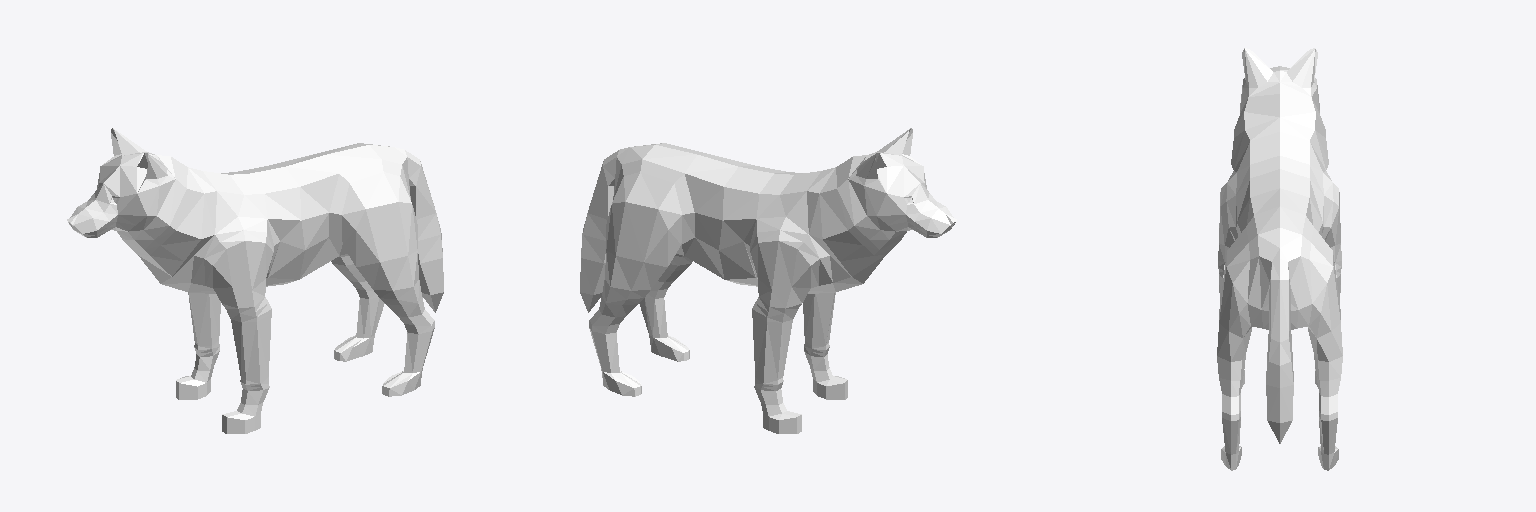
The model's file is wolf.obj.
3 renders of one model, left to right at view 1: azimuth 30°, elevation 25°; view 2: azimuth 150°, elevation 25°; view 3: azimuth 270°, elevation 25°, orthographic.
Visible parts, largest first — view 1: wolf_Mesh.013; view 2: wolf_Mesh.013; view 3: wolf_Mesh.013.
Part boxes in pixels (bbox=[...]): wolf_Mesh.013: bbox=[67, 128, 443, 433]; wolf_Mesh.013: bbox=[580, 128, 956, 433]; wolf_Mesh.013: bbox=[1217, 48, 1342, 470].
Size of the model in its own units: 1.45 by 1.08 by 0.4224.